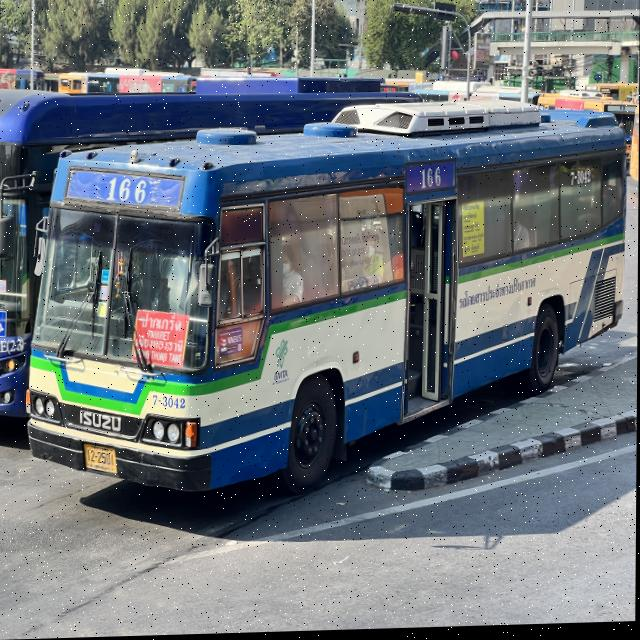BMTA-bus: (26, 105, 631, 499)
Bus Line Number: (61, 165, 186, 219)
Bus Side Number: (150, 391, 188, 416)
Destination Sign: (133, 309, 193, 374)
